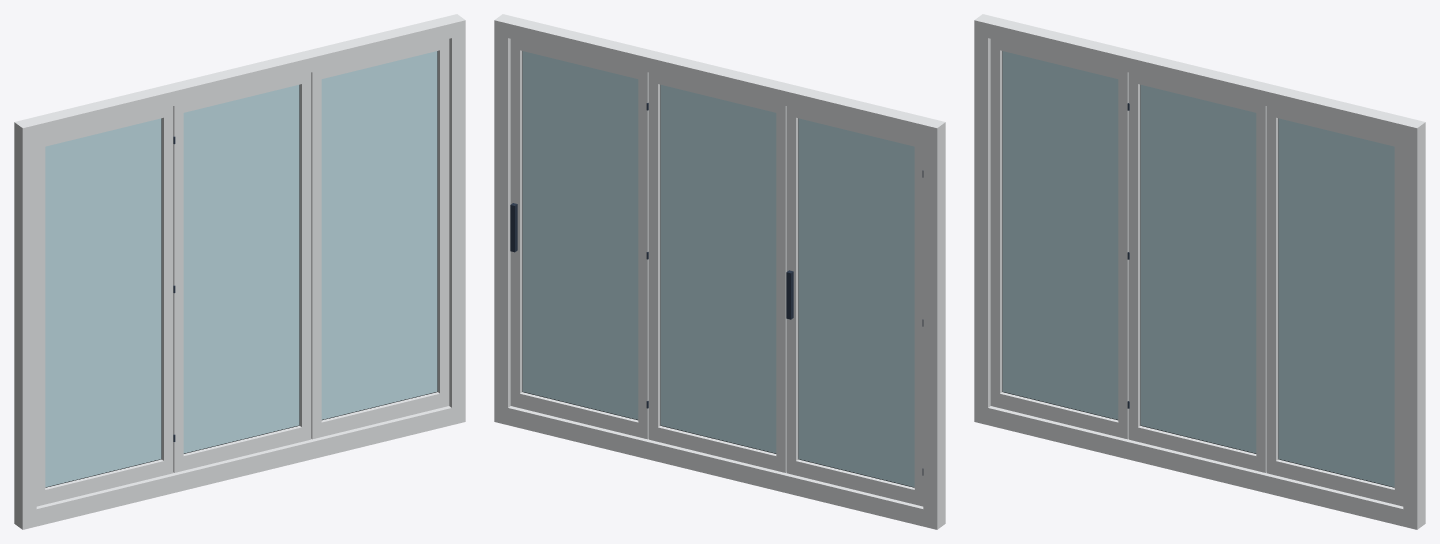
The model's file is patio_doors_bifold_three_pane_closed.glb.
3 views of the same model, side by side, from view 1: azimuth 30°, elevation 25°; view 2: azimuth 150°, elevation 25°; view 3: azimuth 330°, elevation 25° (orthographic).
Visible parts, largest first — view 1: leaf_1_clear_glass_pane, leaf_2_clear_glass_pane, leaf_3_clear_glass_pane, fixed_head, fixed_left_jamb, fixed_sill, fixed_right_jamb, leaf_1_right_stile, leaf_2_right_stile, leaf_3_right_stile, leaf_3_left_stile, leaf_2_left_stile (+7 smaller); view 2: leaf_1_clear_glass_pane, leaf_2_clear_glass_pane, leaf_3_clear_glass_pane, fixed_head, fixed_left_jamb, fixed_sill, fixed_right_jamb, leaf_2_right_stile, leaf_1_right_stile, leaf_3_right_stile, leaf_2_left_stile, leaf_3_left_stile (+7 smaller); view 3: leaf_3_clear_glass_pane, leaf_1_clear_glass_pane, leaf_2_clear_glass_pane, fixed_head, fixed_right_jamb, fixed_sill, fixed_left_jamb, leaf_3_left_stile, leaf_1_left_stile, leaf_2_left_stile, leaf_2_right_stile, leaf_1_right_stile (+7 smaller).
Part boxes in pixels (x1,y1,x2,y2): leaf_1_clear_glass_pane: (45,118,161,487); leaf_2_clear_glass_pane: (183,85,299,453); leaf_3_clear_glass_pane: (321,51,437,419); fixed_head: (28,17,451,139); fixed_left_jamb: (14,119,36,529); fixed_sill: (36,406,451,526); fixed_right_jamb: (444,14,465,424); leaf_1_right_stile: (161,106,173,475); leaf_2_right_stile: (299,72,311,441); leaf_3_right_stile: (437,39,449,407); leaf_3_left_stile: (311,70,321,439); leaf_2_left_stile: (173,103,183,472); leaf_1_clear_glass_pane: (798,118,914,487); leaf_2_clear_glass_pane: (660,85,776,453); leaf_3_clear_glass_pane: (522,51,638,419); fixed_head: (508,17,931,139); fixed_left_jamb: (923,119,945,529); fixed_sill: (508,406,923,526); fixed_right_jamb: (494,14,515,424); leaf_2_right_stile: (648,72,660,441); leaf_1_right_stile: (786,106,798,475); leaf_3_right_stile: (510,39,522,407); leaf_2_left_stile: (776,103,786,472); leaf_3_left_stile: (638,70,648,439); leaf_3_clear_glass_pane: (1278,118,1394,487); leaf_1_clear_glass_pane: (1002,51,1118,419); leaf_2_clear_glass_pane: (1140,85,1256,453); fixed_head: (988,17,1411,139); fixed_right_jamb: (1403,119,1425,529); fixed_sill: (988,406,1403,526); fixed_left_jamb: (974,14,995,424); leaf_3_left_stile: (1266,106,1278,475); leaf_1_left_stile: (990,39,1002,407); leaf_2_left_stile: (1128,72,1140,441); leaf_2_right_stile: (1256,103,1266,472); leaf_1_right_stile: (1118,70,1128,439).
Size of the model in its own units: 2.4 by 2.08 by 0.091.
